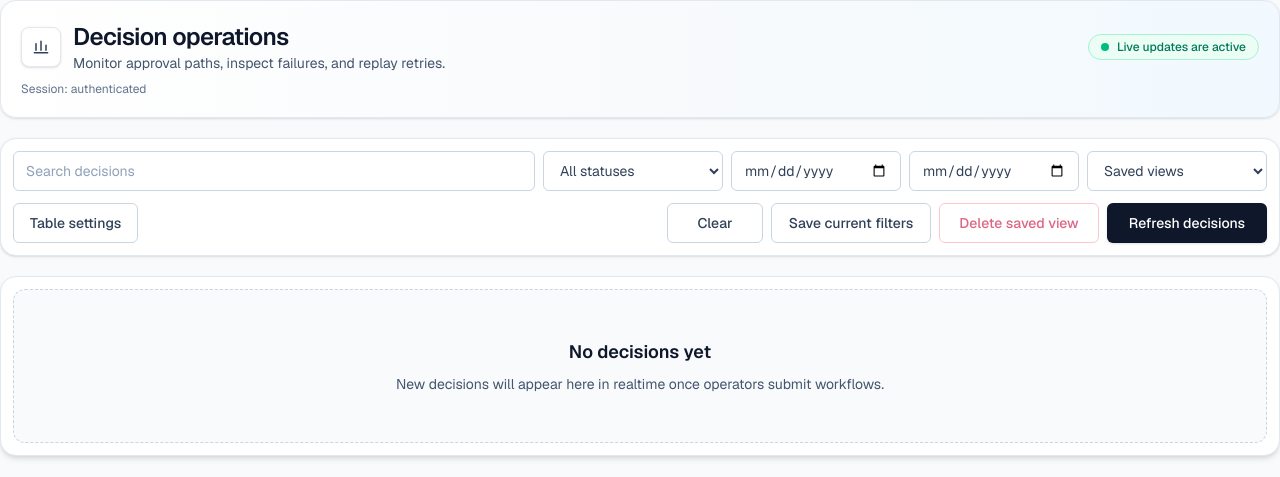
Test: decisions page › deletes selected saved view
Select "Failed fraud" in the dropdown named "saved views" at (1177, 171), box 1087,151 -> 1267,191
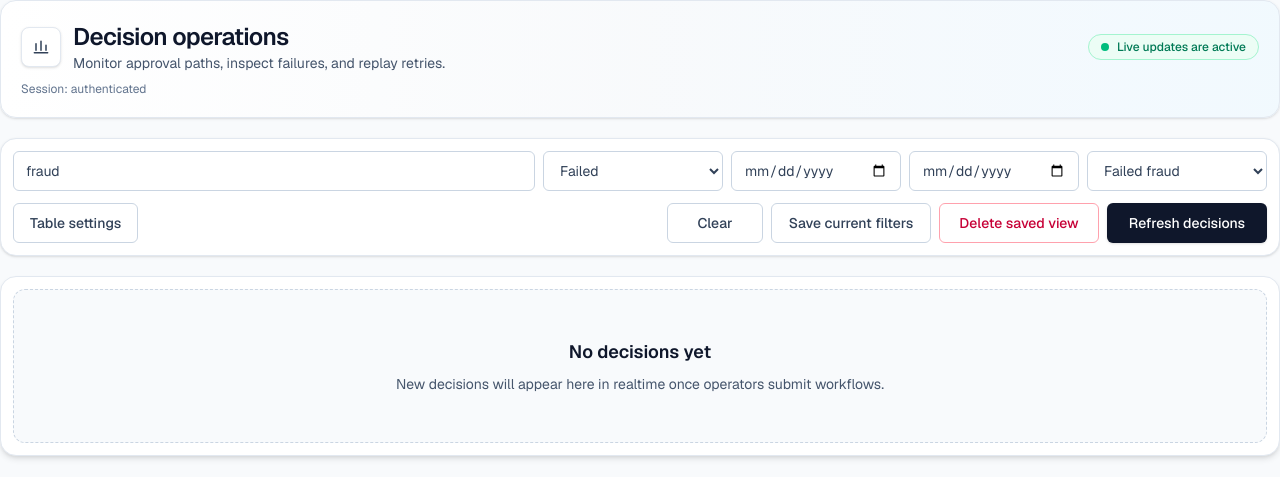
Click the button "Delete saved view".
click(1019, 223)  # box 939,203 -> 1099,243
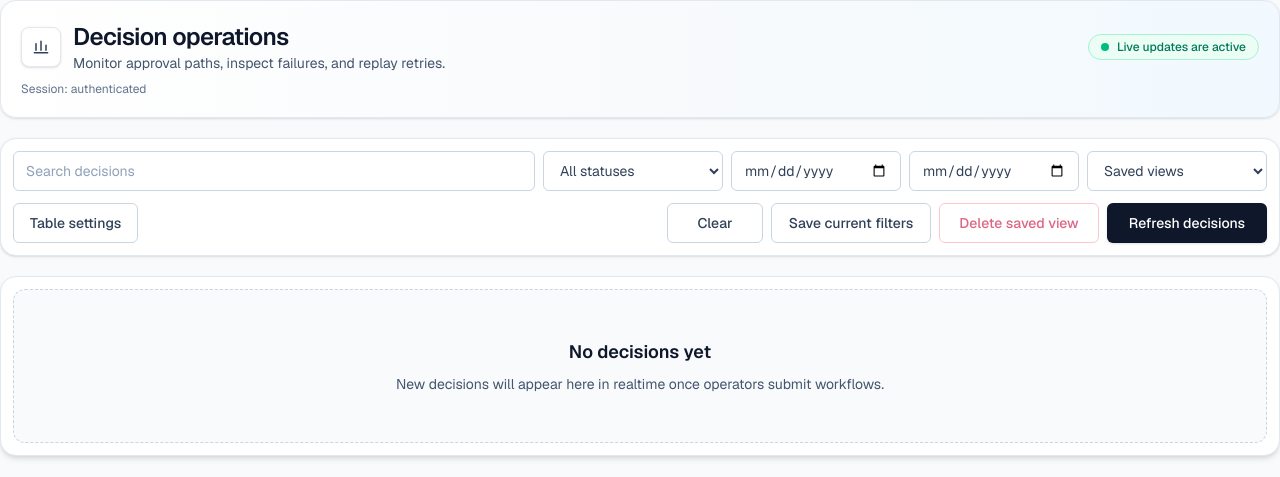
expect the search field labelled "Search decisions" is empty: met, box 13,151 -> 535,191
expect the dropdown named "status filter" shows "All statuses": met, box 543,151 -> 723,191
